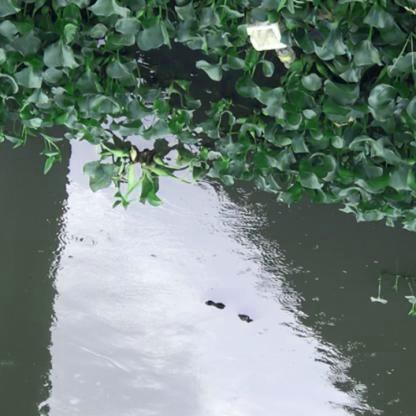Plastic: (272, 46, 298, 66)
Trash: (241, 21, 288, 50)
